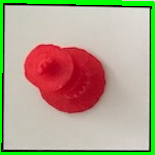Red King: (23, 40, 108, 116)
